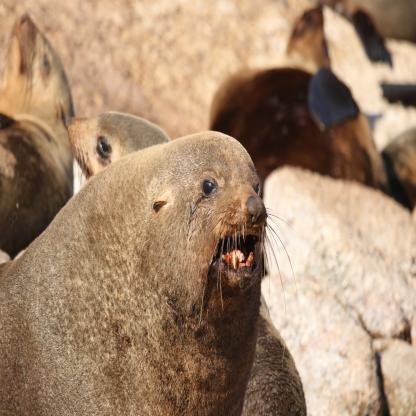face: (194, 174, 271, 295), (9, 12, 53, 80), (64, 115, 112, 176)
